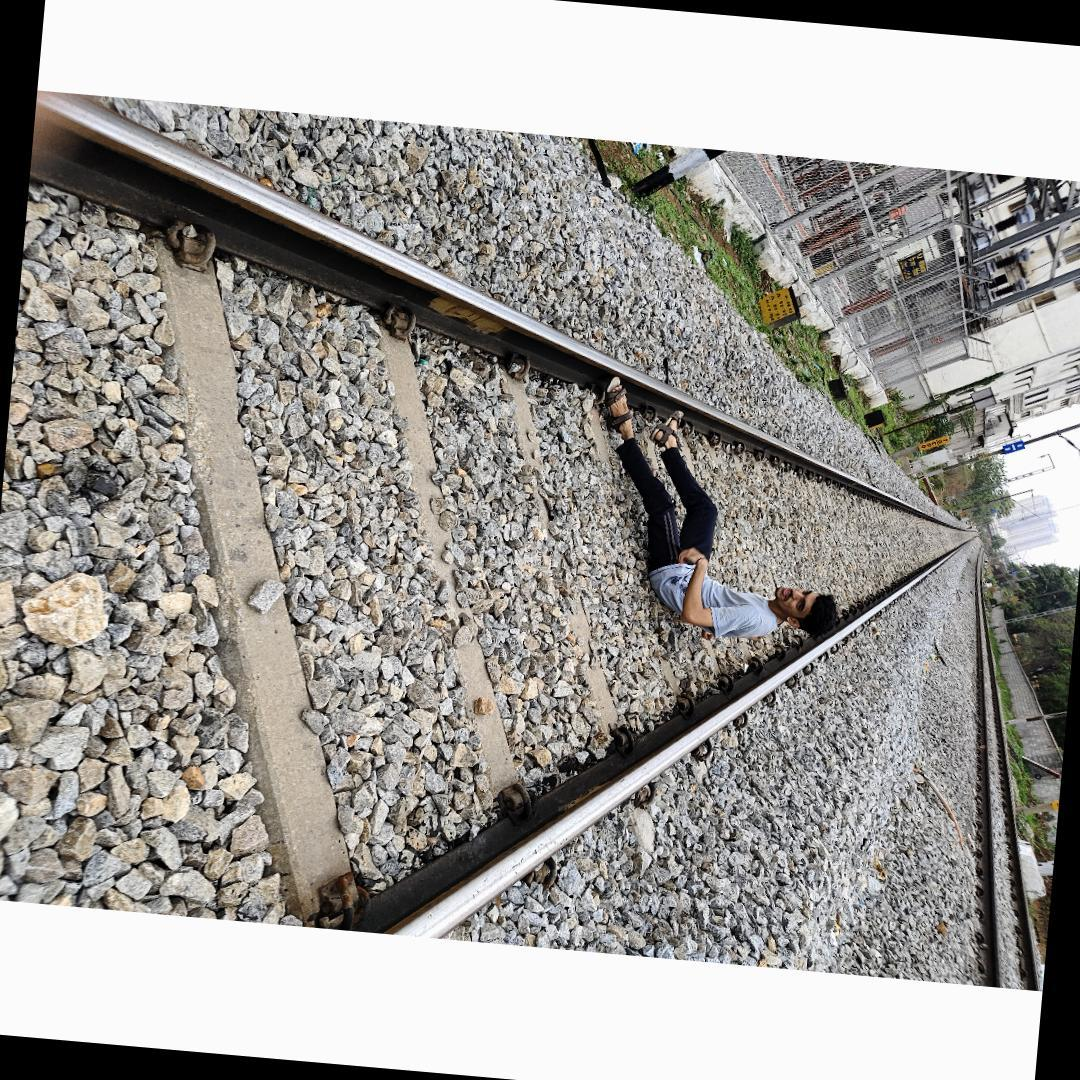sitting: (579, 372, 859, 651)
track: (0, 89, 992, 939)
